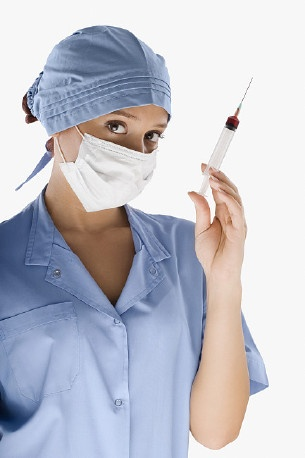Mask: (64, 104, 167, 207)
